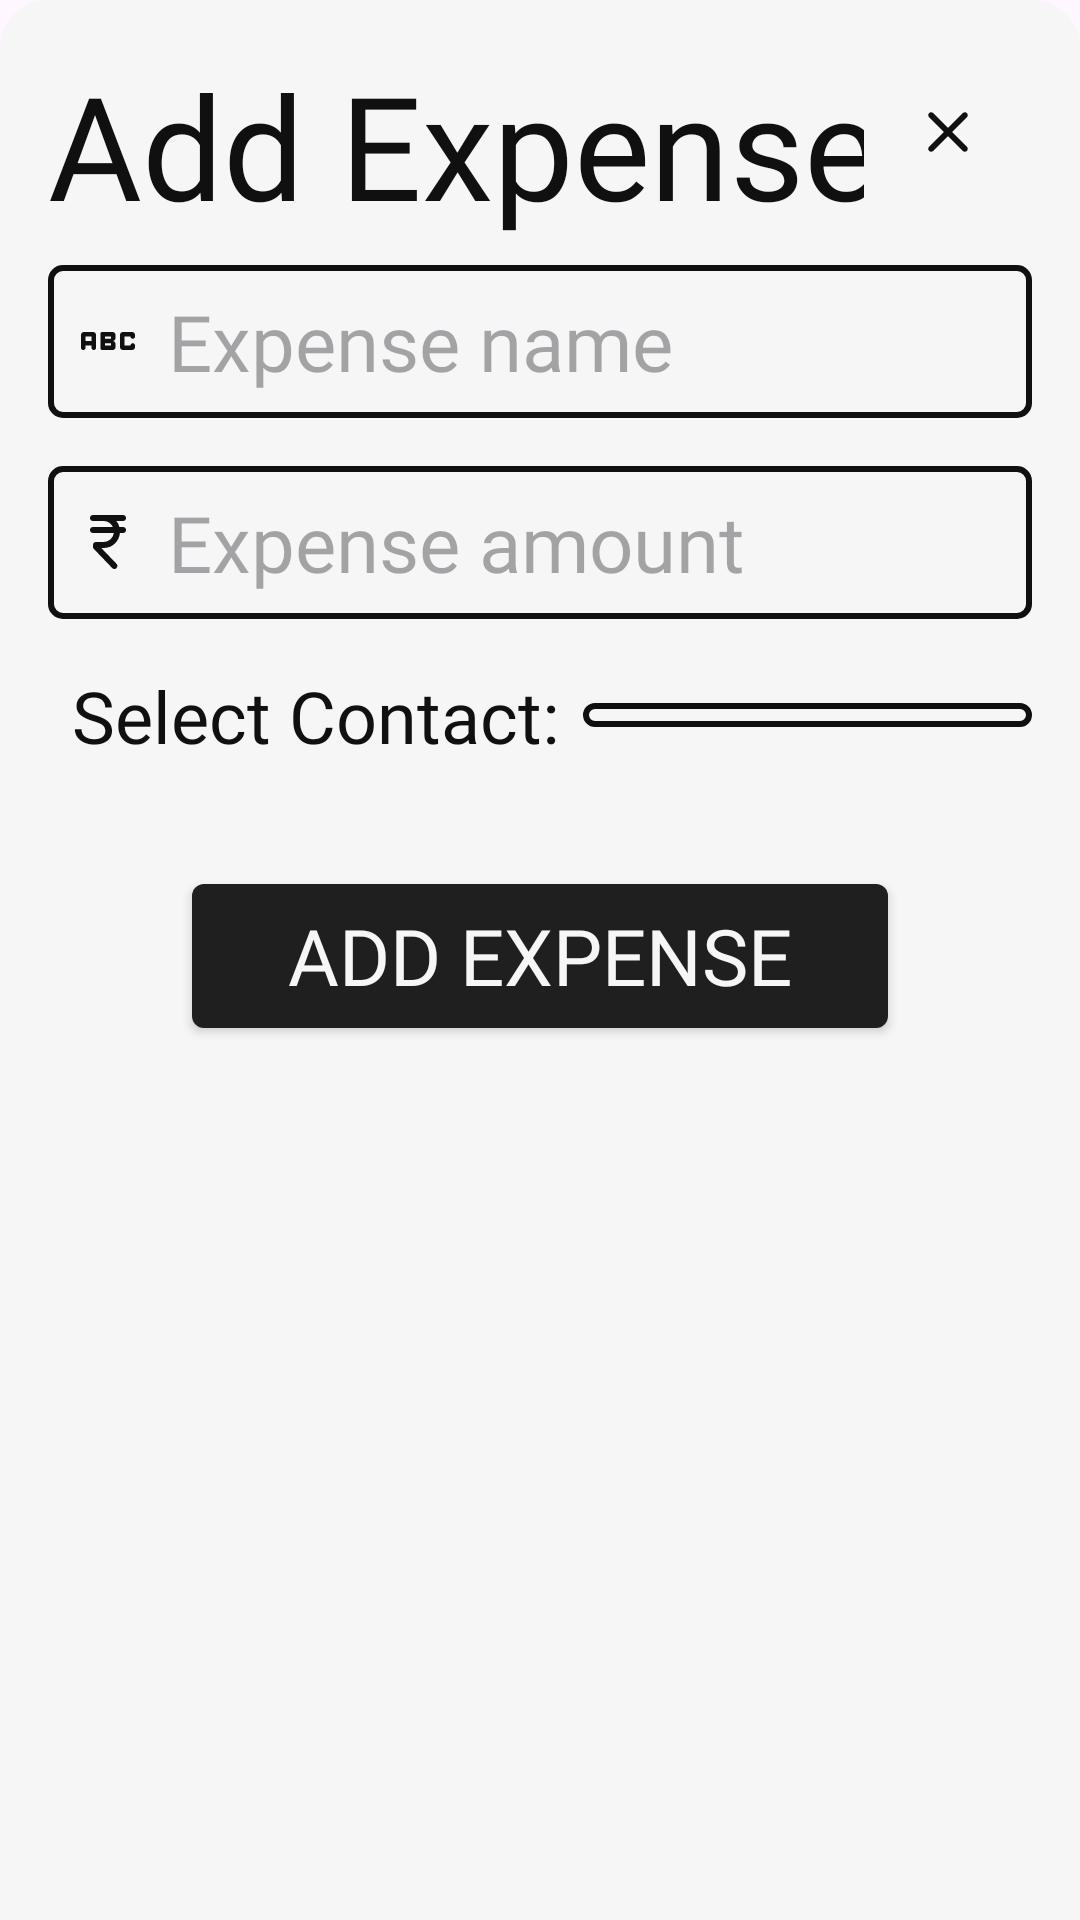

Icon click points for this 1080*1920 phone screenshot, format (x,y):
close: (948,132)
